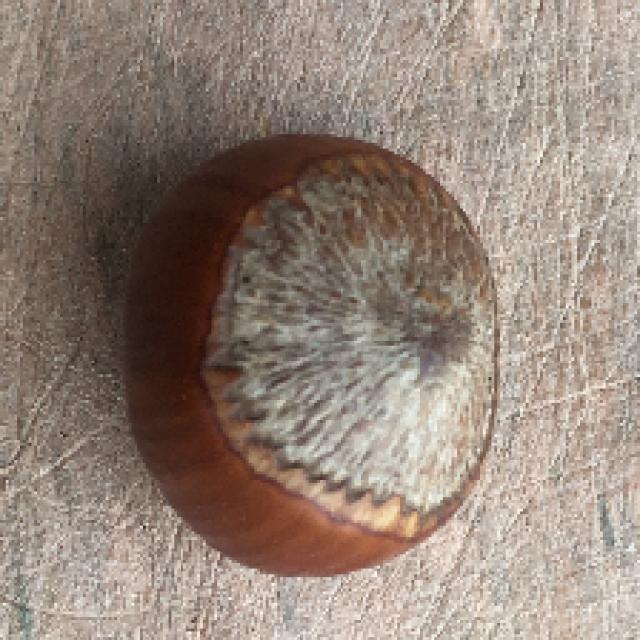damagedHazelnut: (123, 117, 511, 592)
